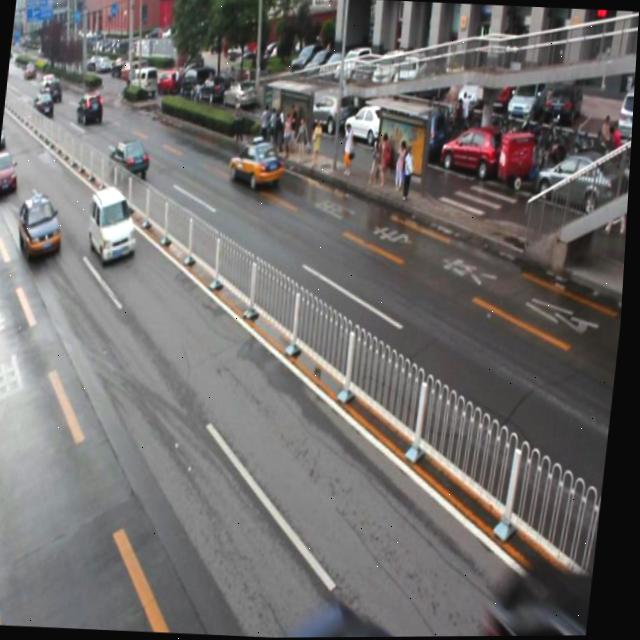car: (492, 560, 601, 637), (283, 599, 459, 638), (86, 184, 143, 268), (17, 189, 68, 258), (227, 137, 289, 192), (106, 139, 155, 181), (74, 90, 107, 128), (0, 148, 24, 194)
